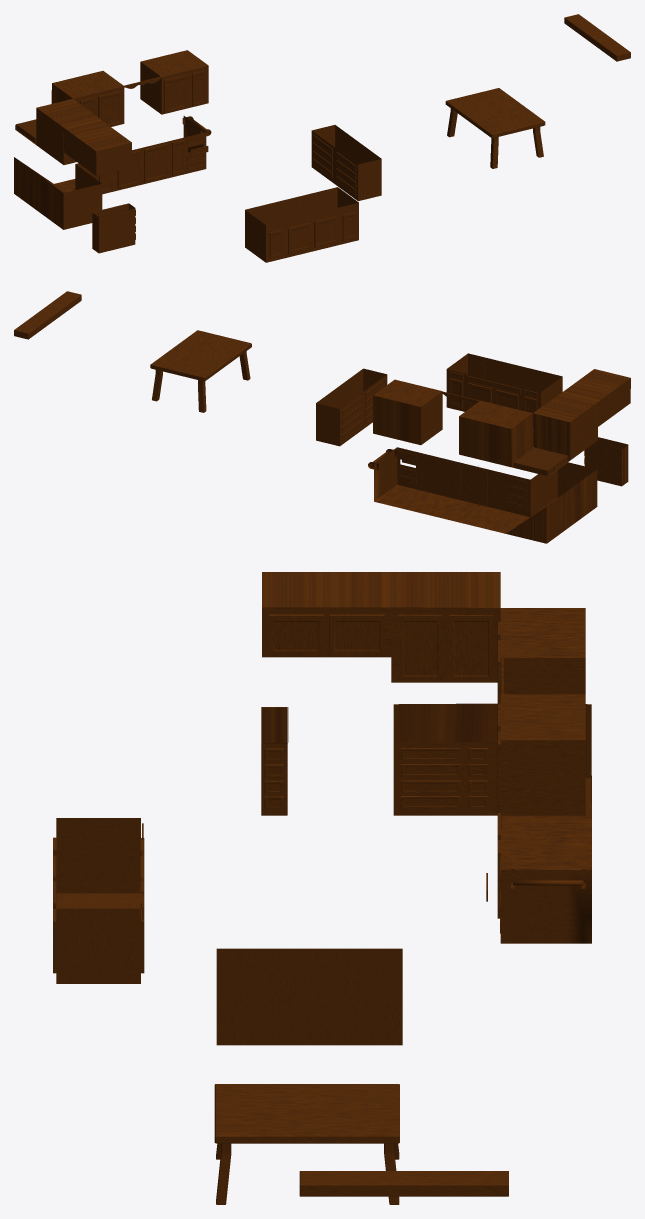
File: kitchen-cabinetWood.obj
3 views of the same model, one above another, from view 1: azimuth 30°, elevation 25°; view 2: azimuth 150°, elevation 25°; view 3: azimuth 270°, elevation 25° (orthographic). The views are drawn at different scales.
Parts seen in each view (by area): view 1: littleDrawerCounter_Cube.011, topCupboards_Cube.016, table_Cube.008, fireplace_Cube.001; view 2: littleDrawerCounter_Cube.011, topCupboards_Cube.016, table_Cube.008, fireplace_Cube.001; view 3: littleDrawerCounter_Cube.011, topCupboards_Cube.016, table_Cube.008, fireplace_Cube.001.
Part boxes in pixels (box(x1,y1,x2,y2)): littleDrawerCounter_Cube.011: box(14, 116, 381, 262); topCupboards_Cube.016: box(15, 50, 208, 176); table_Cube.008: box(445, 88, 545, 168); fireplace_Cube.001: box(564, 14, 630, 61); littleDrawerCounter_Cube.011: box(316, 353, 628, 543); topCupboards_Cube.016: box(373, 369, 630, 476); table_Cube.008: box(150, 330, 251, 412); fireplace_Cube.001: box(14, 291, 81, 339); littleDrawerCounter_Cube.011: box(53, 703, 591, 1045); topCupboards_Cube.016: box(262, 572, 585, 815); table_Cube.008: box(214, 1084, 399, 1204); fireplace_Cube.001: box(299, 1171, 508, 1196).
Bounding box in the file's own units: 30.81 × 5.6 × 13.21.
1 material, 1 textured.
